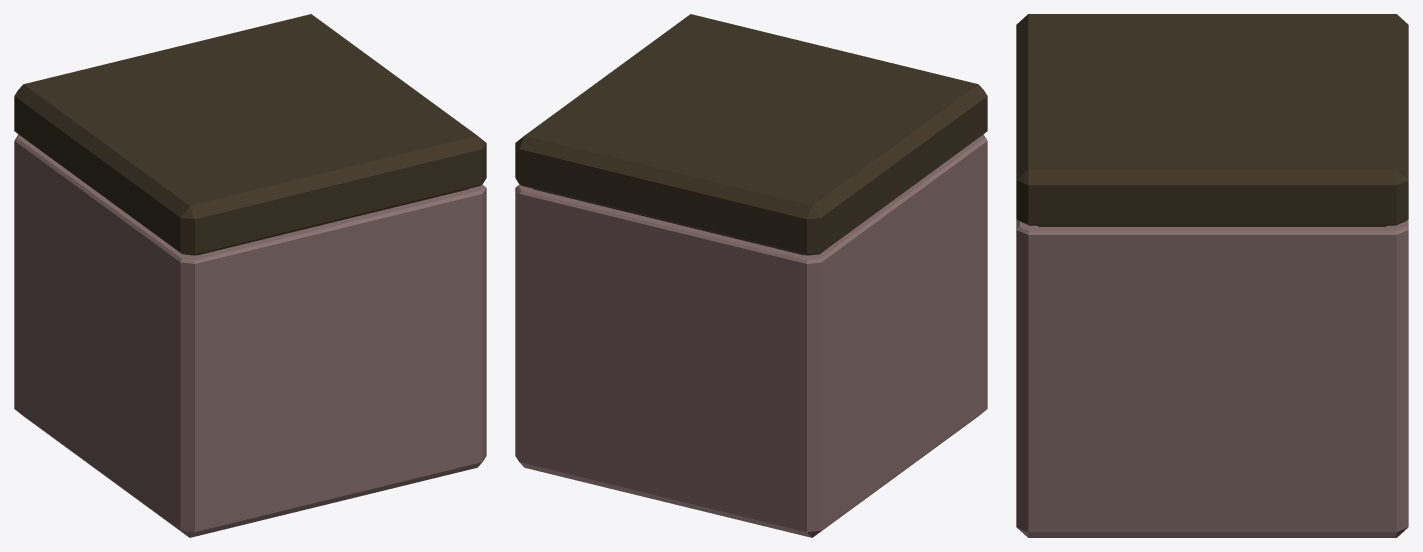
Rendered from B2-1_Shortcube.fbx.
3 views of the same model, side by side, from view 1: azimuth 30°, elevation 25°; view 2: azimuth 150°, elevation 25°; view 3: azimuth 270°, elevation 25° (orthographic). The views are drawn at different scales.
Visible parts, largest first — view 1: ShortCube; view 2: ShortCube; view 3: ShortCube.
Part boxes in pixels (x1,y1,x2,y2): ShortCube: [14, 14, 486, 537]; ShortCube: [515, 14, 987, 537]; ShortCube: [1016, 14, 1408, 537].
Size of the model in its own units: 1 by 1.04 by 1.
